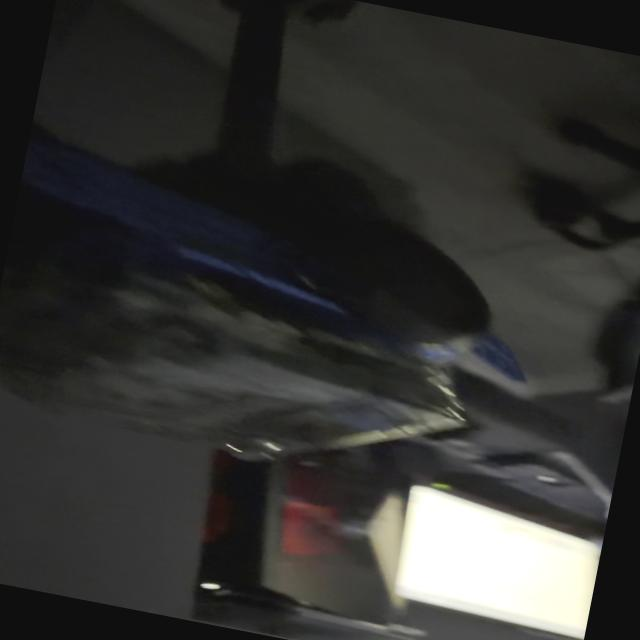mbot-detection: (0, 112, 562, 521)
